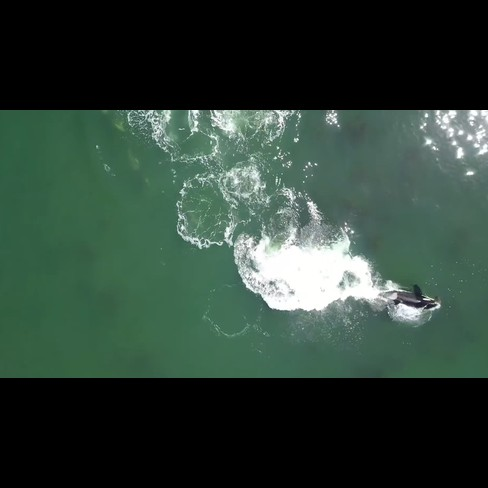orca: (376, 281, 448, 320)
